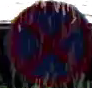No waiting: (5, 0, 90, 87)
